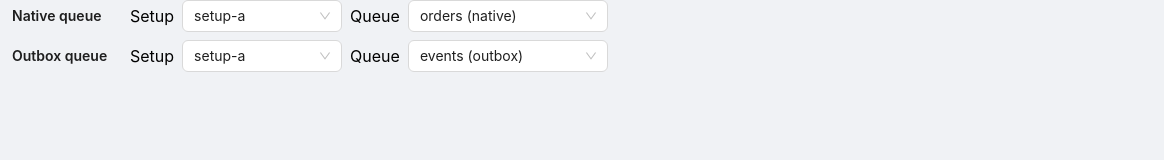
Test: CompareTargets › drops a setup's CACHED queues when a later load for it fails
This screenshot has width=1164, height=160.
Step 1. Click the dropdown → (253, 16), box [194,1,312,31]
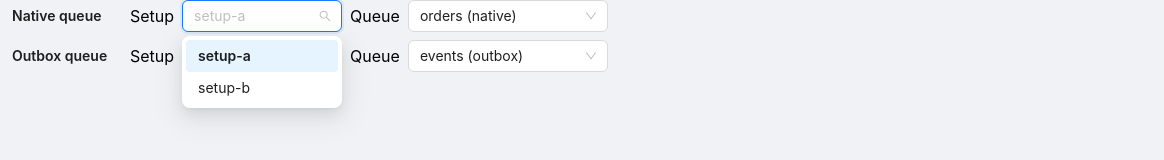
Step 2. Click the element titled "setup-b" → (224, 88), box [198,79,250,96]
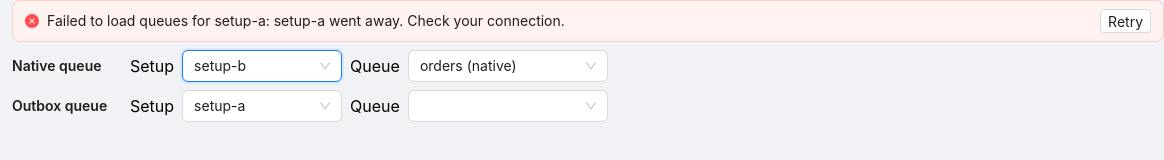
Expected: the text "setup-a went away" is shown, [47,12,565,29]
